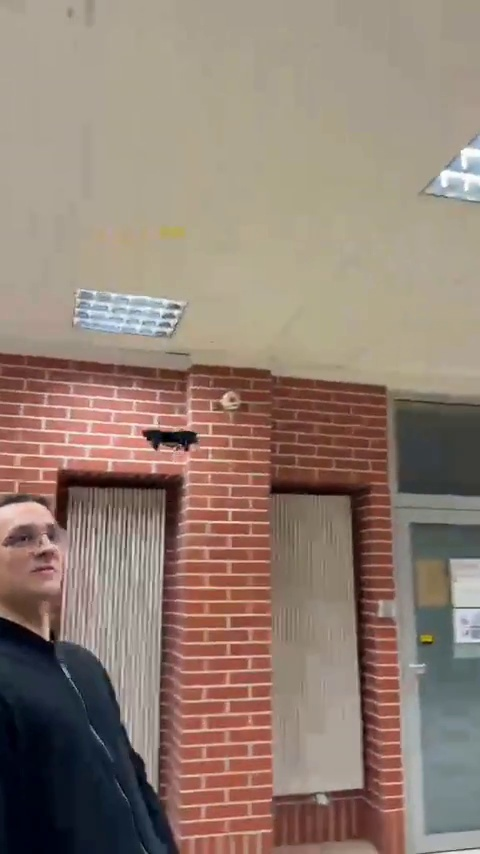drone: (138, 423, 201, 452)
no vest: (0, 496, 182, 854)
